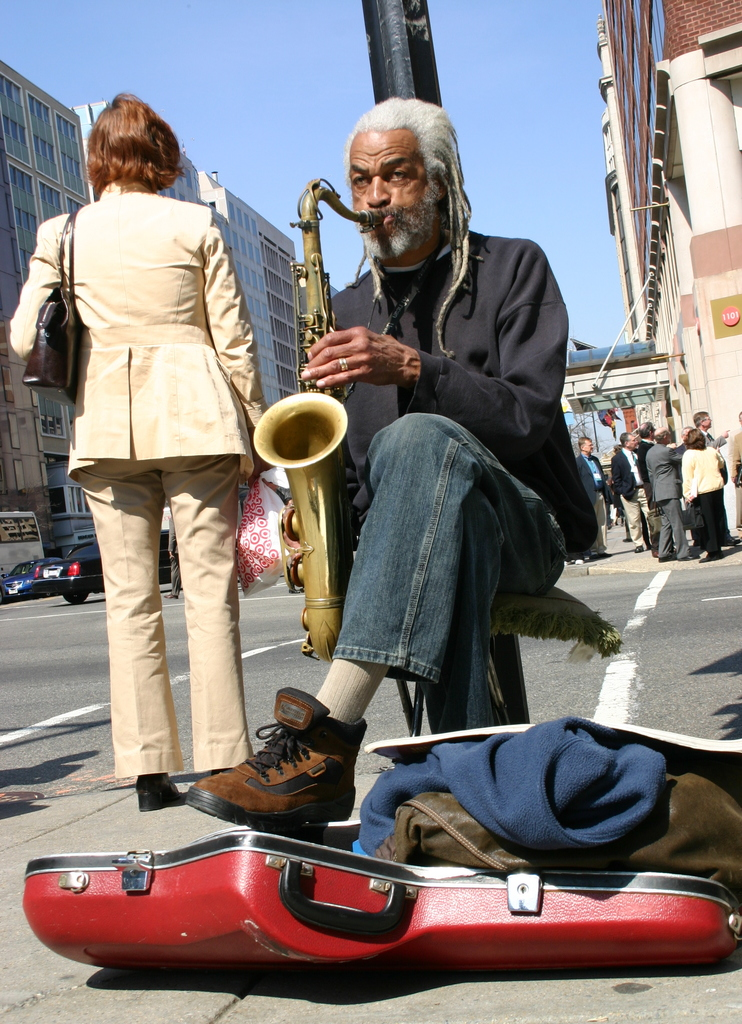Footwear: (177, 685, 371, 830), (132, 769, 179, 813)
